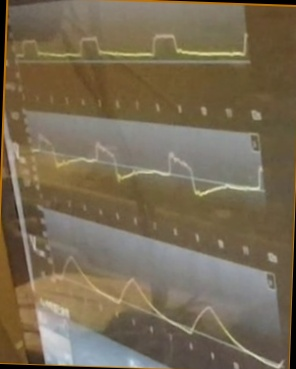Accumulation Flow: (31, 129, 264, 201)
Volume: (54, 252, 284, 368)
